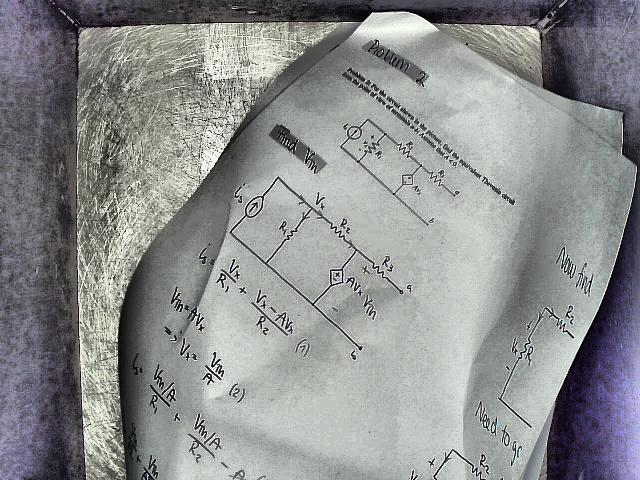Paper: (114, 7, 640, 480)
